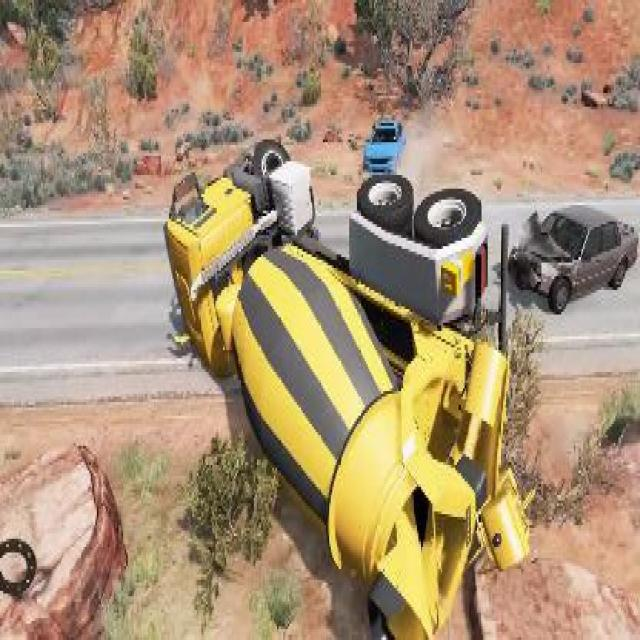accident: (157, 123, 529, 640)
